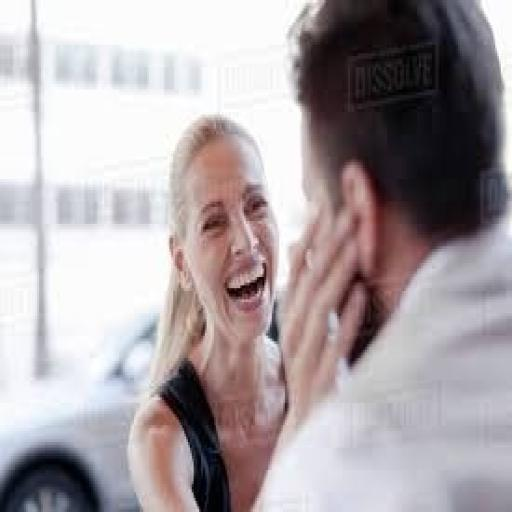laughing: (121, 0, 510, 509)
